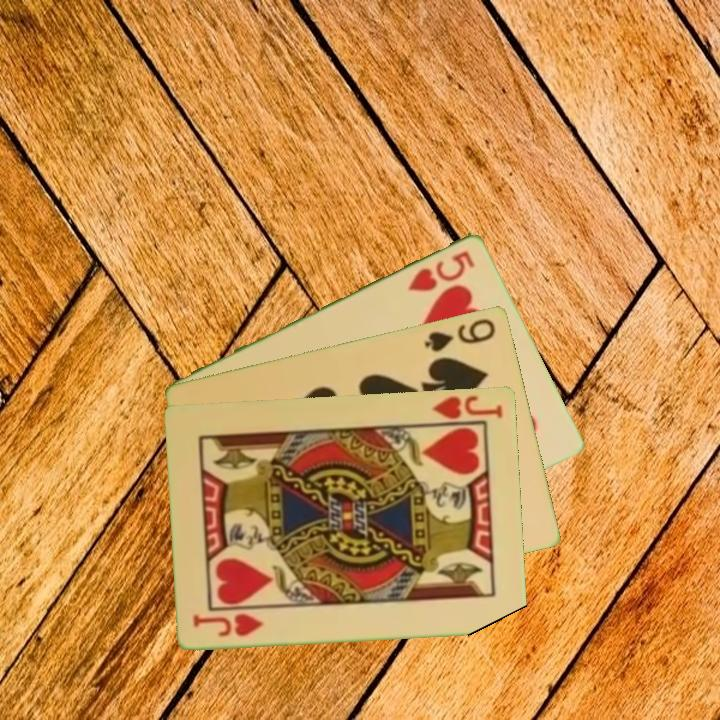5h: (405, 247, 478, 294)
9s: (421, 314, 499, 355)
Jh: (429, 391, 506, 422), (190, 609, 266, 639)
